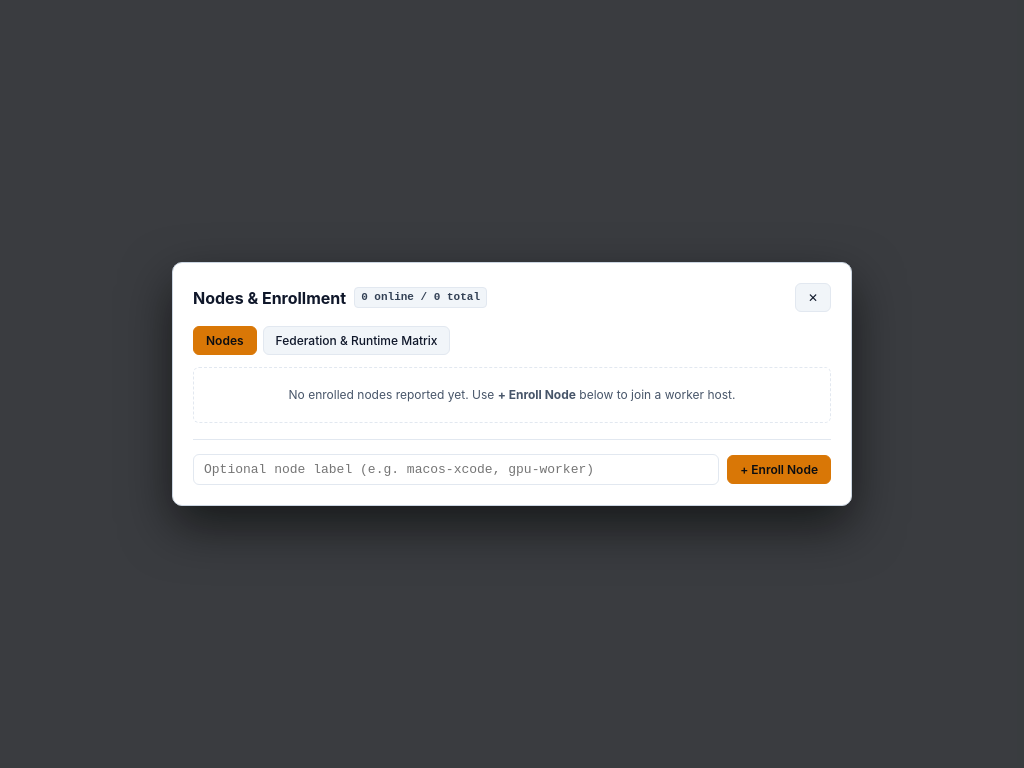
Test: NodesModal secrets and keyboard › forgets the enrollment command when the modal closes
This screenshot has width=1024, height=768.
Click the button with test id "enroll-node-btn": coordinates (779, 470) [727,455,831,484]
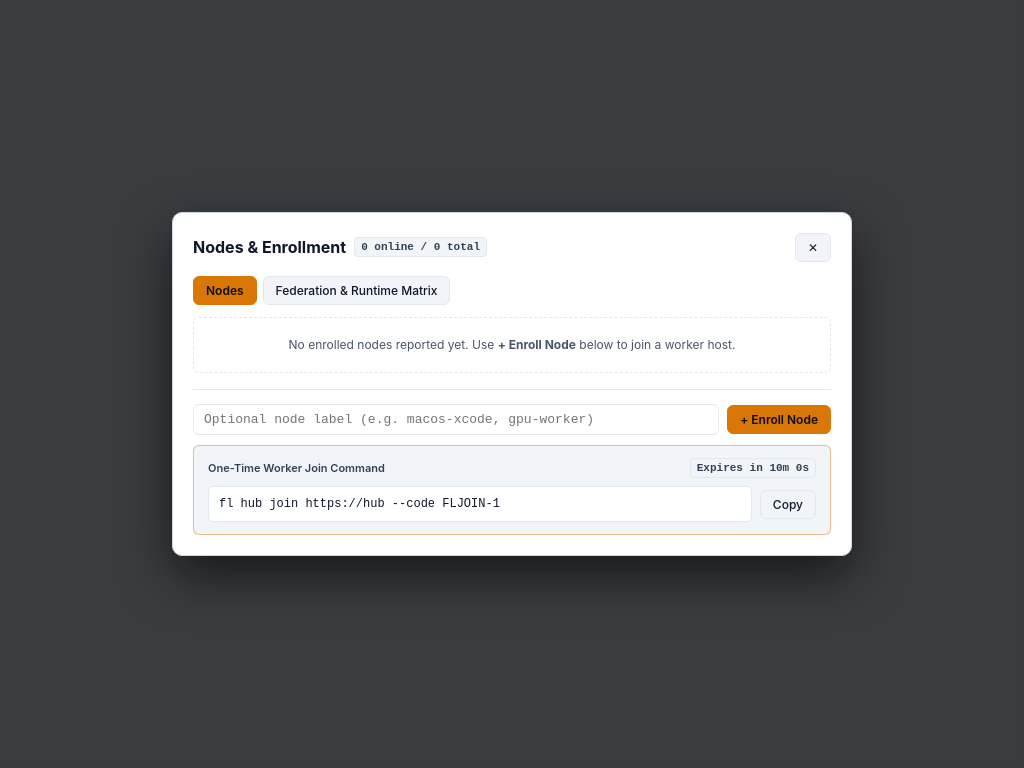
expect the text "fl hub join https://hub --code FLJOIN-1" is shown: met, box [208,486,752,522]
